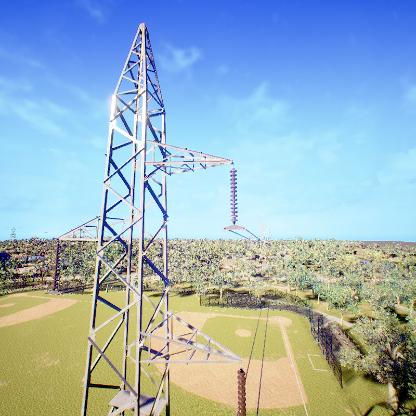insulator: (228, 167, 239, 224), (235, 369, 247, 416), (51, 241, 62, 291)
